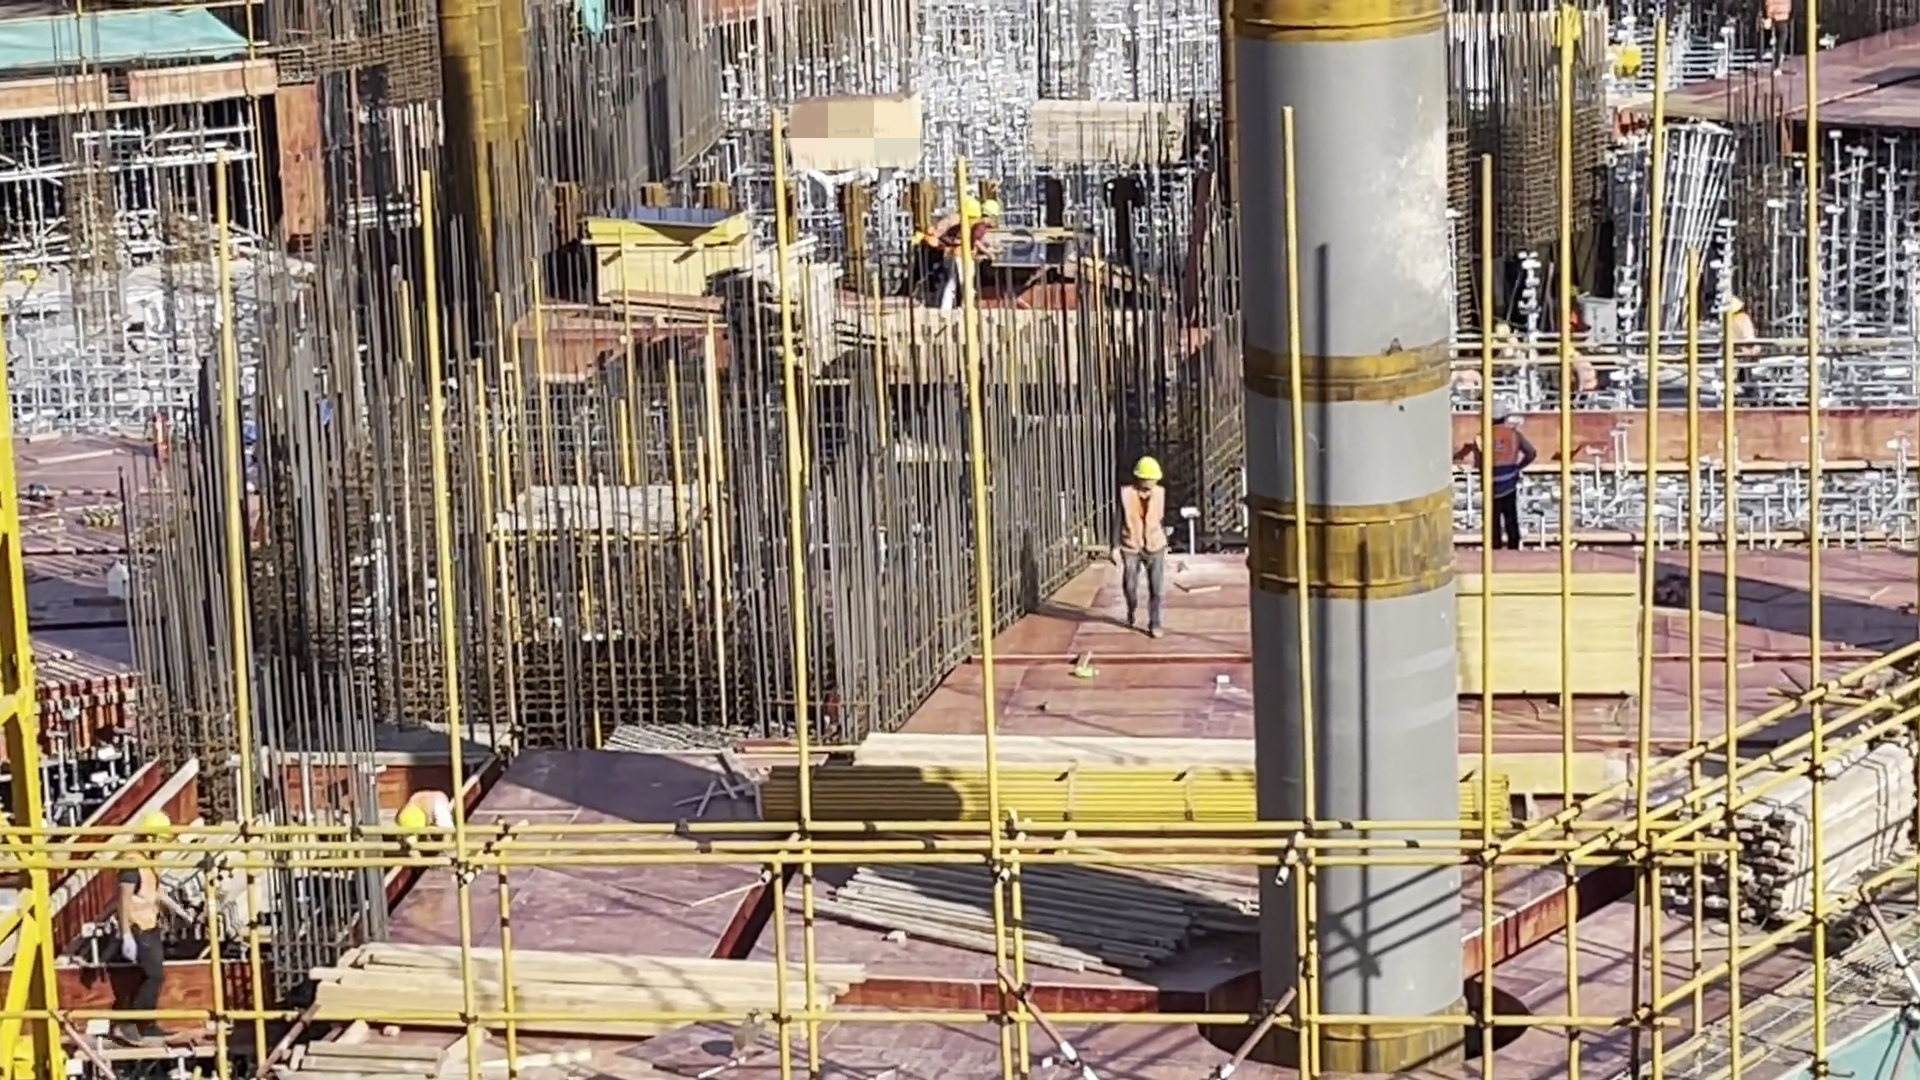helmet: (134, 804, 184, 843), (1125, 453, 1162, 490), (397, 801, 425, 837), (1719, 291, 1749, 319), (975, 199, 1003, 226), (1483, 394, 1515, 418), (956, 201, 979, 227)
person: (94, 803, 195, 1058), (1444, 391, 1546, 550), (1105, 449, 1192, 627), (922, 190, 998, 312), (1710, 290, 1779, 402), (379, 784, 468, 860), (1751, 1, 1801, 77)
vest: (1471, 425, 1522, 497), (1116, 490, 1167, 554)
